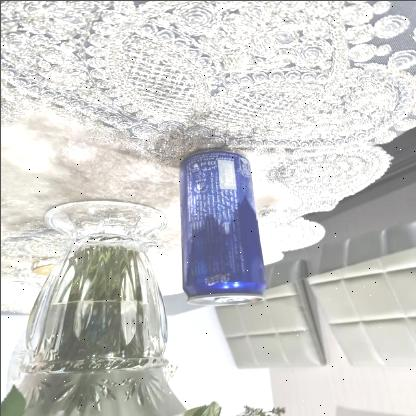Can: (162, 143, 268, 310)
